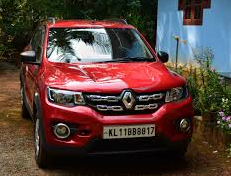car: (15, 16, 194, 168)
